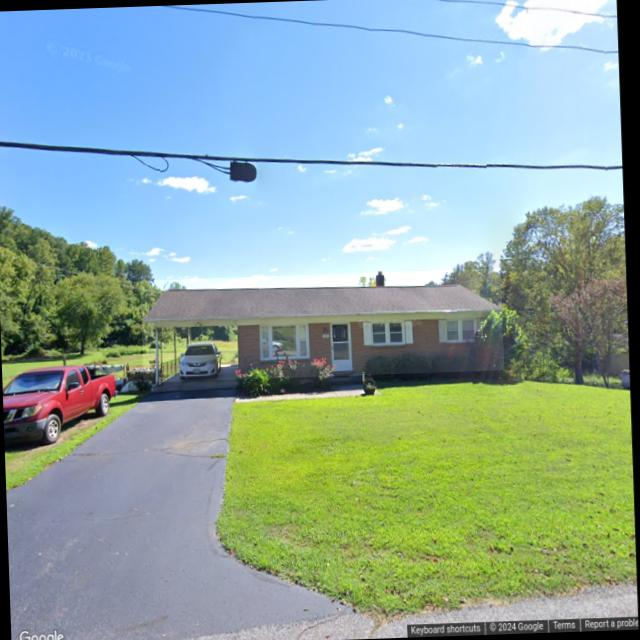House: (140, 268, 503, 382)
